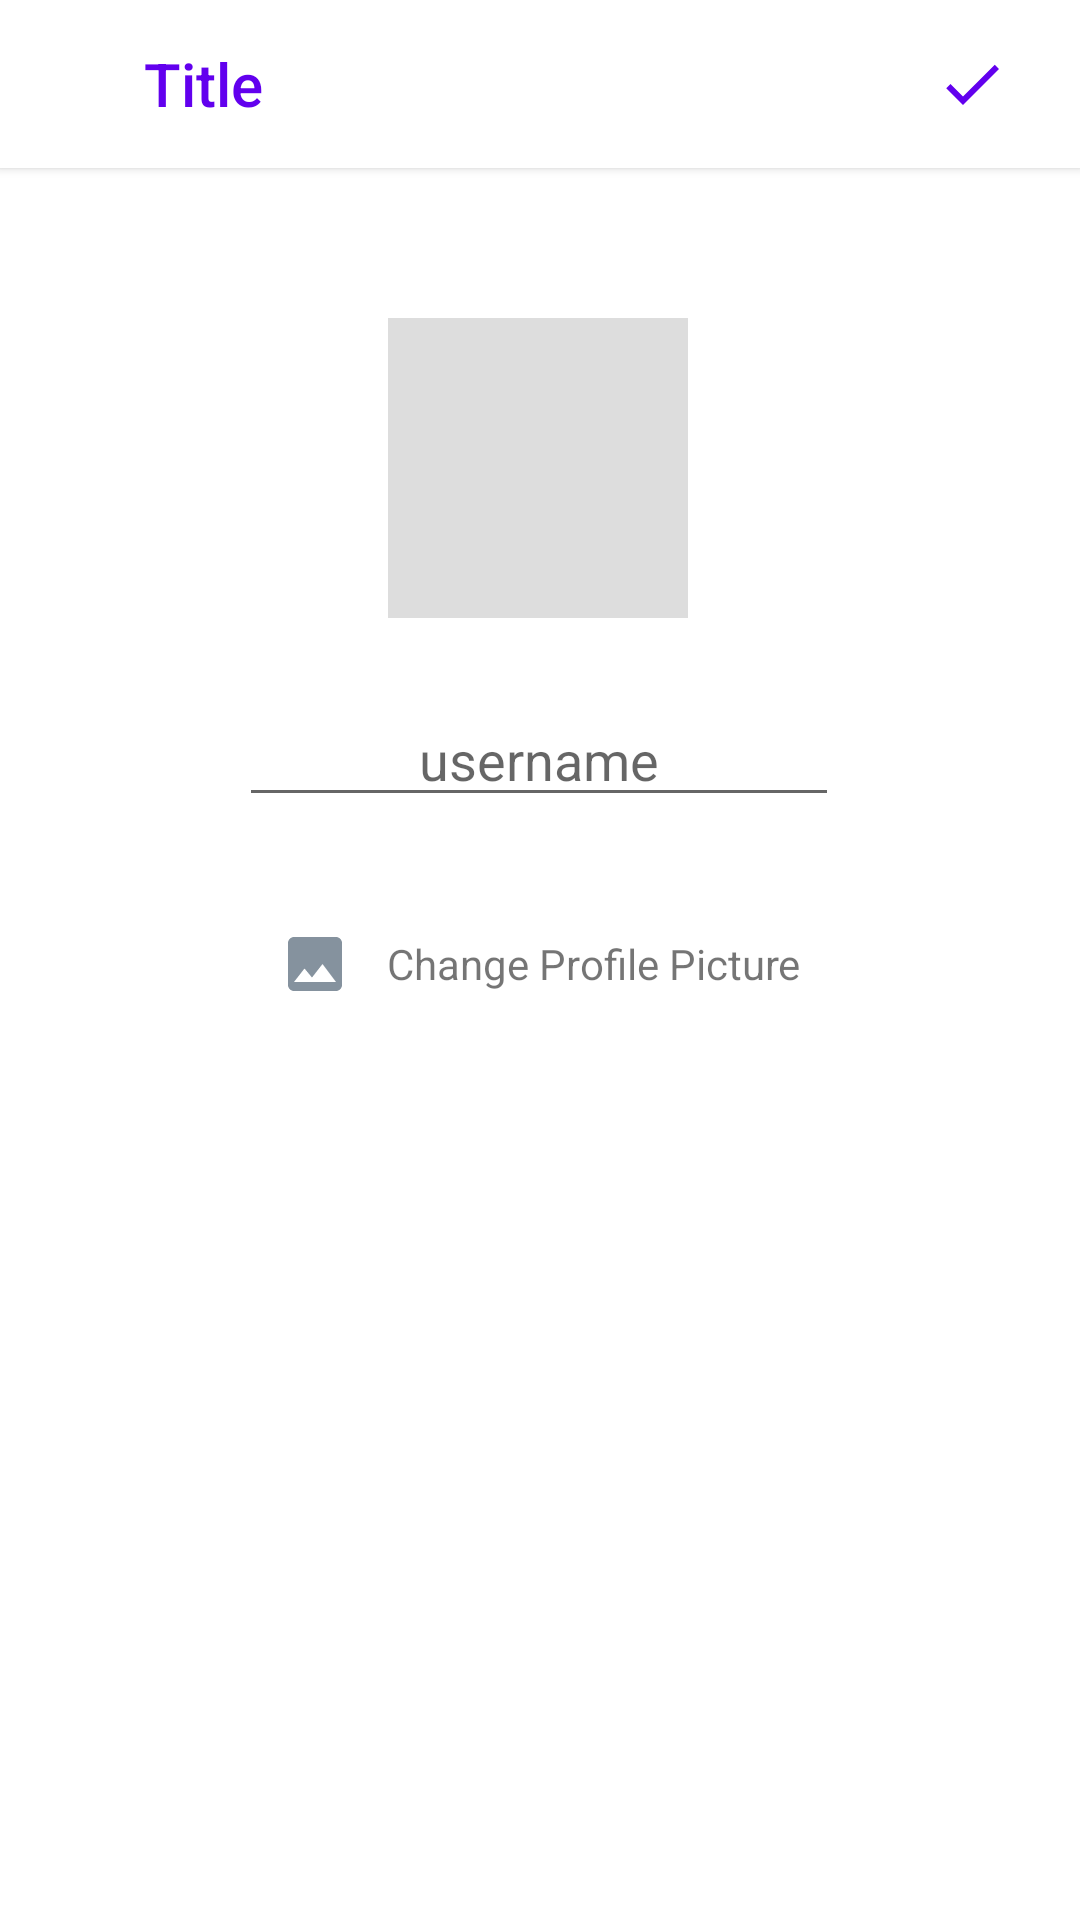

Icon click points for this 1080*1920 phone screenshot, format [x,y]:
check: [972,85]
